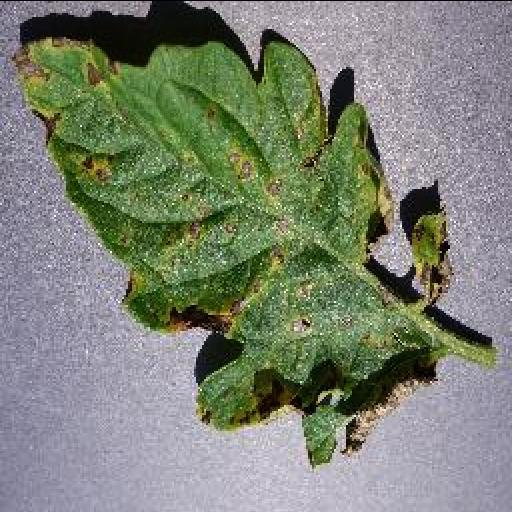disease_tomato: (9, 31, 447, 469)
